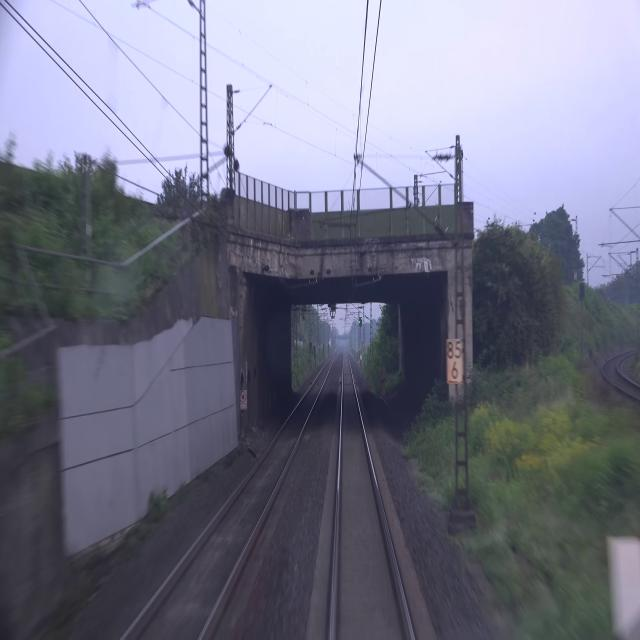rail-track: (125, 363, 330, 639), (335, 355, 410, 639), (604, 357, 640, 395)
